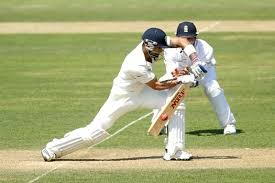bottom left: (145, 127, 154, 137)
bottom right: (151, 132, 162, 141)
top left: (178, 80, 186, 89)
top right: (184, 87, 193, 96)
